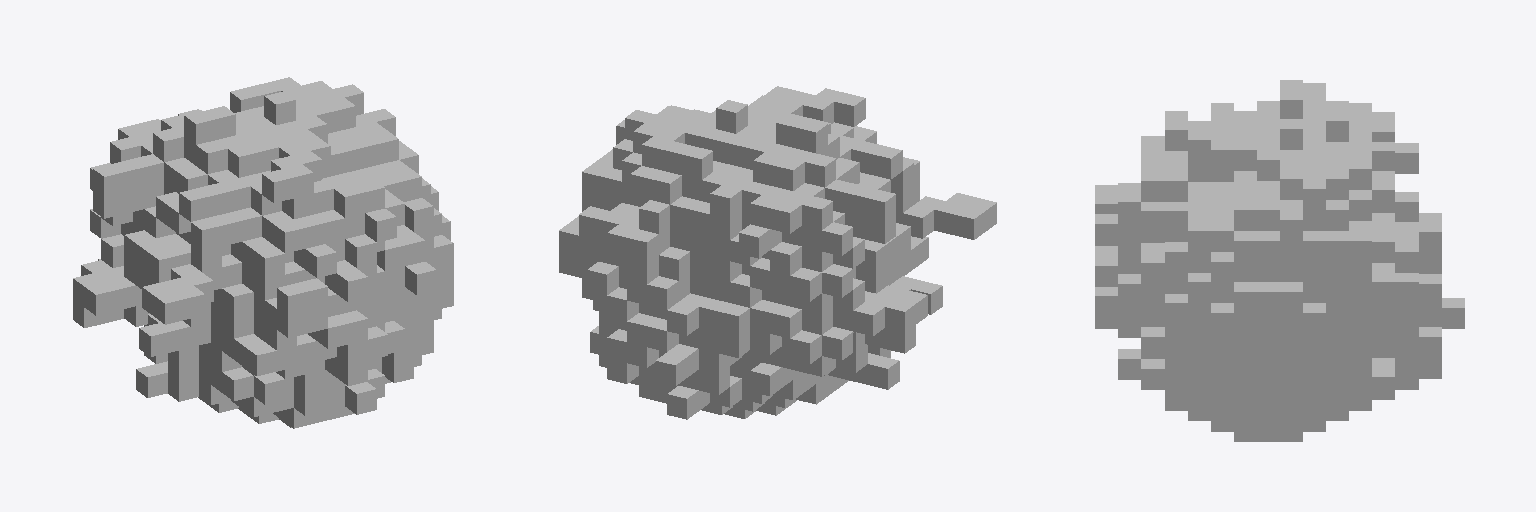
File: Asteroid.obj
3 renders of one model, left to right at view 1: azimuth 30°, elevation 25°; view 2: azimuth 150°, elevation 25°; view 3: azimuth 270°, elevation 25°, orthographic.
Parts seen in each view (by area): view 1: object 1; view 2: object 1; view 3: object 1.
Boxes of the visible parts, <box> form: object 1: <box>73,77,453,428</box>; object 1: <box>559,86,996,419</box>; object 1: <box>1095,80,1464,441</box>.
Size of the model in its own units: 1.6 by 1.4 by 1.6.